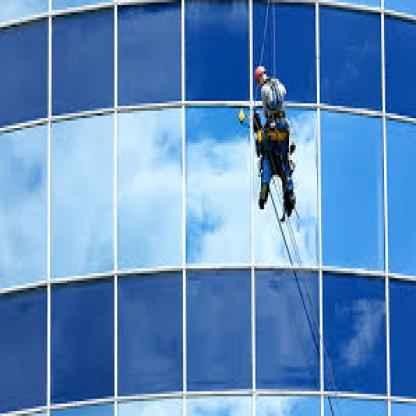window: (50, 108, 116, 283), (184, 104, 253, 268), (116, 106, 184, 271), (318, 108, 386, 271), (251, 106, 320, 266), (184, 266, 253, 396), (322, 268, 390, 396), (254, 268, 323, 394), (50, 273, 116, 404), (119, 268, 184, 396), (0, 121, 49, 290), (314, 3, 384, 113), (116, 0, 184, 109), (50, 10, 118, 118), (184, 0, 252, 104), (251, 0, 317, 106), (0, 286, 49, 414), (0, 17, 51, 129), (385, 115, 415, 280), (386, 276, 414, 401), (384, 10, 414, 123), (116, 394, 187, 413), (253, 394, 324, 413), (322, 394, 391, 413), (184, 396, 254, 414), (0, 0, 51, 23), (49, 401, 117, 414), (316, 0, 382, 10), (49, 2, 113, 10), (384, 0, 414, 17)
